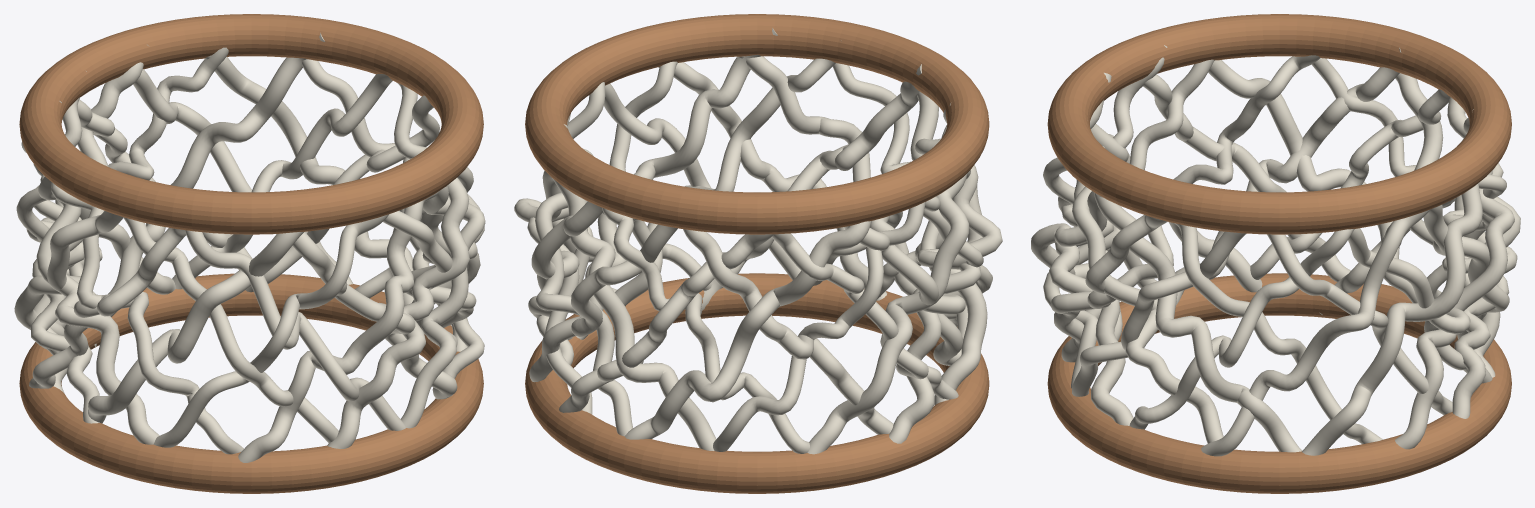
3 views of the same model, side by side, from view 1: azimuth 30°, elevation 25°; view 2: azimuth 150°, elevation 25°; view 3: azimuth 270°, elevation 25° (orthographic).
Visible parts, largest first — view 1: rim_top, rim_bottom, latA10, latA9, latA7, latA8, latB9, latB4, latB11, latB8, latB10, latB3 (+18 smaller); view 2: rim_top, rim_bottom, latA3, latA5, latA4, latB4, latB6, latA6, latB5, latA2, latA1, latB0 (+18 smaller); view 3: rim_top, rim_bottom, latA0, latB0, latA13, latA1, latB13, latA12, latB9, latB1, latB12, latA11 (+18 smaller).
Boxes of the visible parts, box(x1,y1,x2,y2) form: rim_top: box(19, 14, 483, 234); rim_bottom: box(19, 273, 483, 493); latA10: box(327, 177, 469, 448); latA9: box(238, 186, 446, 462); latA7: box(88, 232, 303, 423); latA8: box(153, 214, 388, 447); latB9: box(51, 182, 243, 454); latB4: box(94, 33, 324, 347); latB11: box(185, 230, 405, 430); latB8: box(36, 101, 159, 444); latB10: box(123, 217, 338, 442); latB3: box(172, 74, 392, 289); rim_top: box(525, 14, 989, 234); rim_bottom: box(525, 273, 989, 493); latA3: box(624, 221, 871, 439); latA5: box(807, 173, 969, 454); latA4: box(713, 202, 925, 451); latB4: box(552, 124, 716, 450); latB6: box(683, 229, 893, 434); latA6: box(889, 124, 1002, 443); latB5: box(602, 207, 809, 453); latA2: box(559, 234, 773, 412); latA1: box(529, 224, 677, 382); latB0: box(575, 28, 777, 366); rim_top: box(1047, 14, 1511, 234); rim_bottom: box(1047, 273, 1511, 493); latA0: box(1302, 183, 1482, 455); latB0: box(1094, 146, 1301, 452); latA13: box(1201, 209, 1430, 456); latA1: box(1395, 170, 1514, 449); latB13: box(1072, 186, 1223, 443); latA12: box(1129, 229, 1354, 429); latB9: box(1114, 55, 1320, 340); latB1: box(1174, 223, 1382, 444); latB12: box(1049, 72, 1133, 425); latA11: box(1072, 231, 1246, 396).
Size of the model in its own units: 0.0408 by 0.028 by 0.0418.
